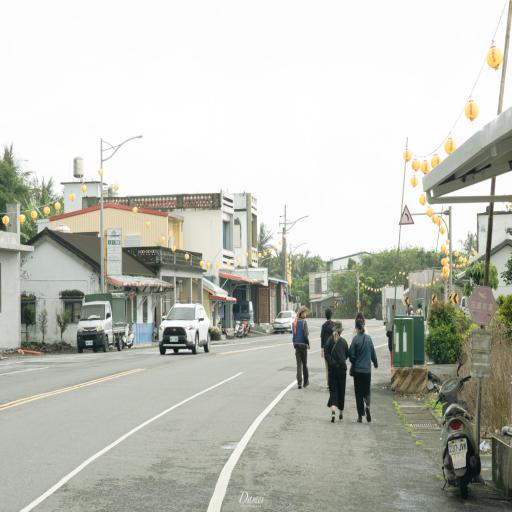car: (70, 281, 140, 361), (152, 299, 223, 359)
whiteline: (204, 375, 299, 512)
